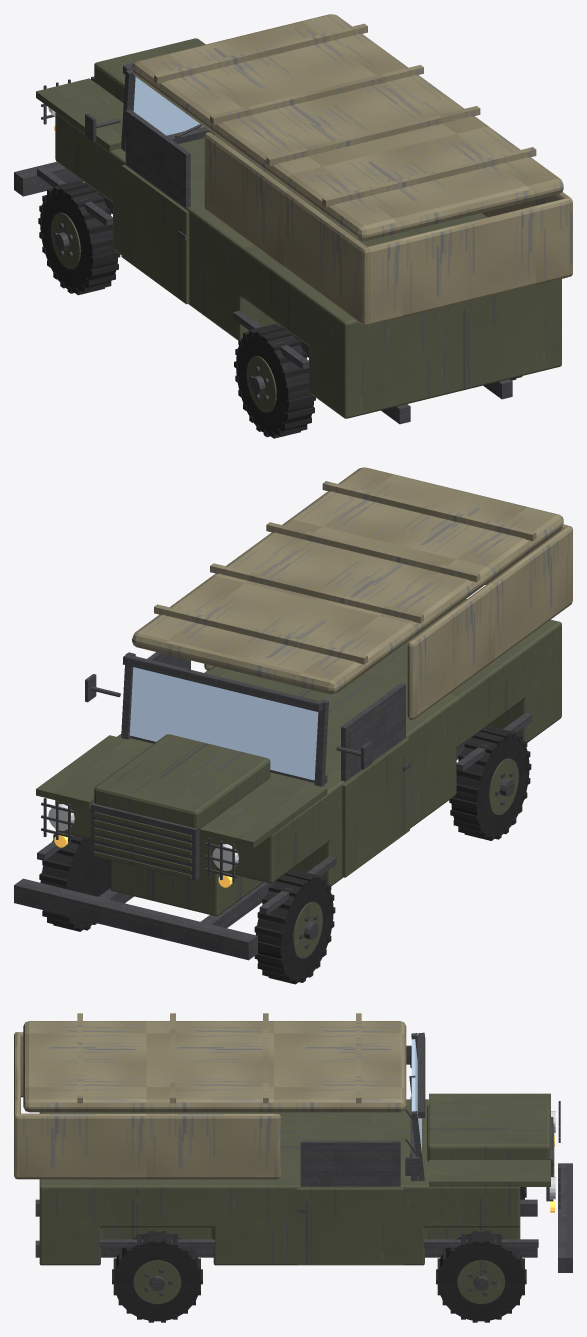
File: landrover.glb
3 renders of one model, top to bottom at view 1: azimuth 30°, elevation 25°; view 2: azimuth 150°, elevation 25°; view 3: azimuth 270°, elevation 25°, orthographic. The views are drawn at different scales.
Parts seen in each view (by area): view 1: landrover; view 2: landrover; view 3: landrover.
Part boxes in pixels (box(x1,y1,x2,y2)): landrover: box(14, 14, 572, 438); landrover: box(14, 467, 572, 984); landrover: box(14, 1013, 572, 1322).
Bounding box in the file's own units: 2.3 × 2.08 × 4.82.
Materials: 7 (4 with a texture image).
